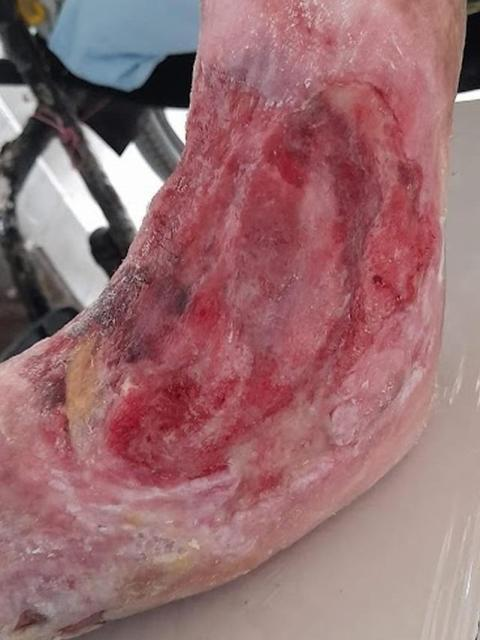wound: (32, 73, 436, 533)
